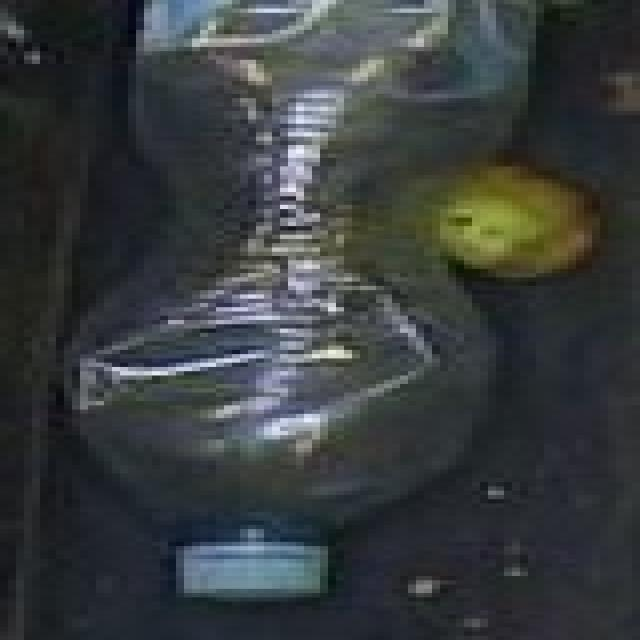litter: (62, 0, 526, 608)
